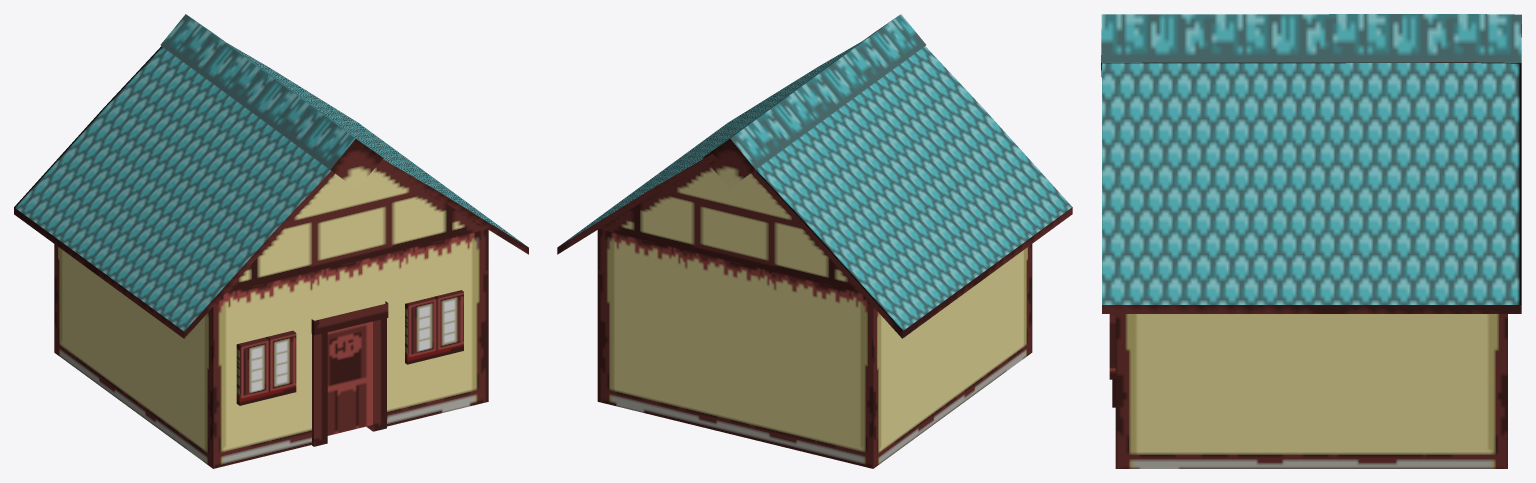
Rendered from nootiest noot.glb.
3 renders of one model, left to right at view 1: azimuth 30°, elevation 25°; view 2: azimuth 150°, elevation 25°; view 3: azimuth 270°, elevation 25°, orthographic. The views are drawn at different scales.
Visible parts, largest first — view 1: House, Roof; view 2: House, Roof; view 3: Roof, House.
Boxes of the visible parts, bbox=[...] form: House: bbox=[54, 164, 488, 468]; Roof: bbox=[14, 14, 528, 338]; House: bbox=[597, 164, 1032, 468]; Roof: bbox=[557, 14, 1072, 338]; Roof: bbox=[1101, 14, 1521, 313]; House: bbox=[1109, 314, 1507, 468].
Bounding box in the file's own units: 3.91 × 3.27 × 3.35.
2 materials, 2 textured.
